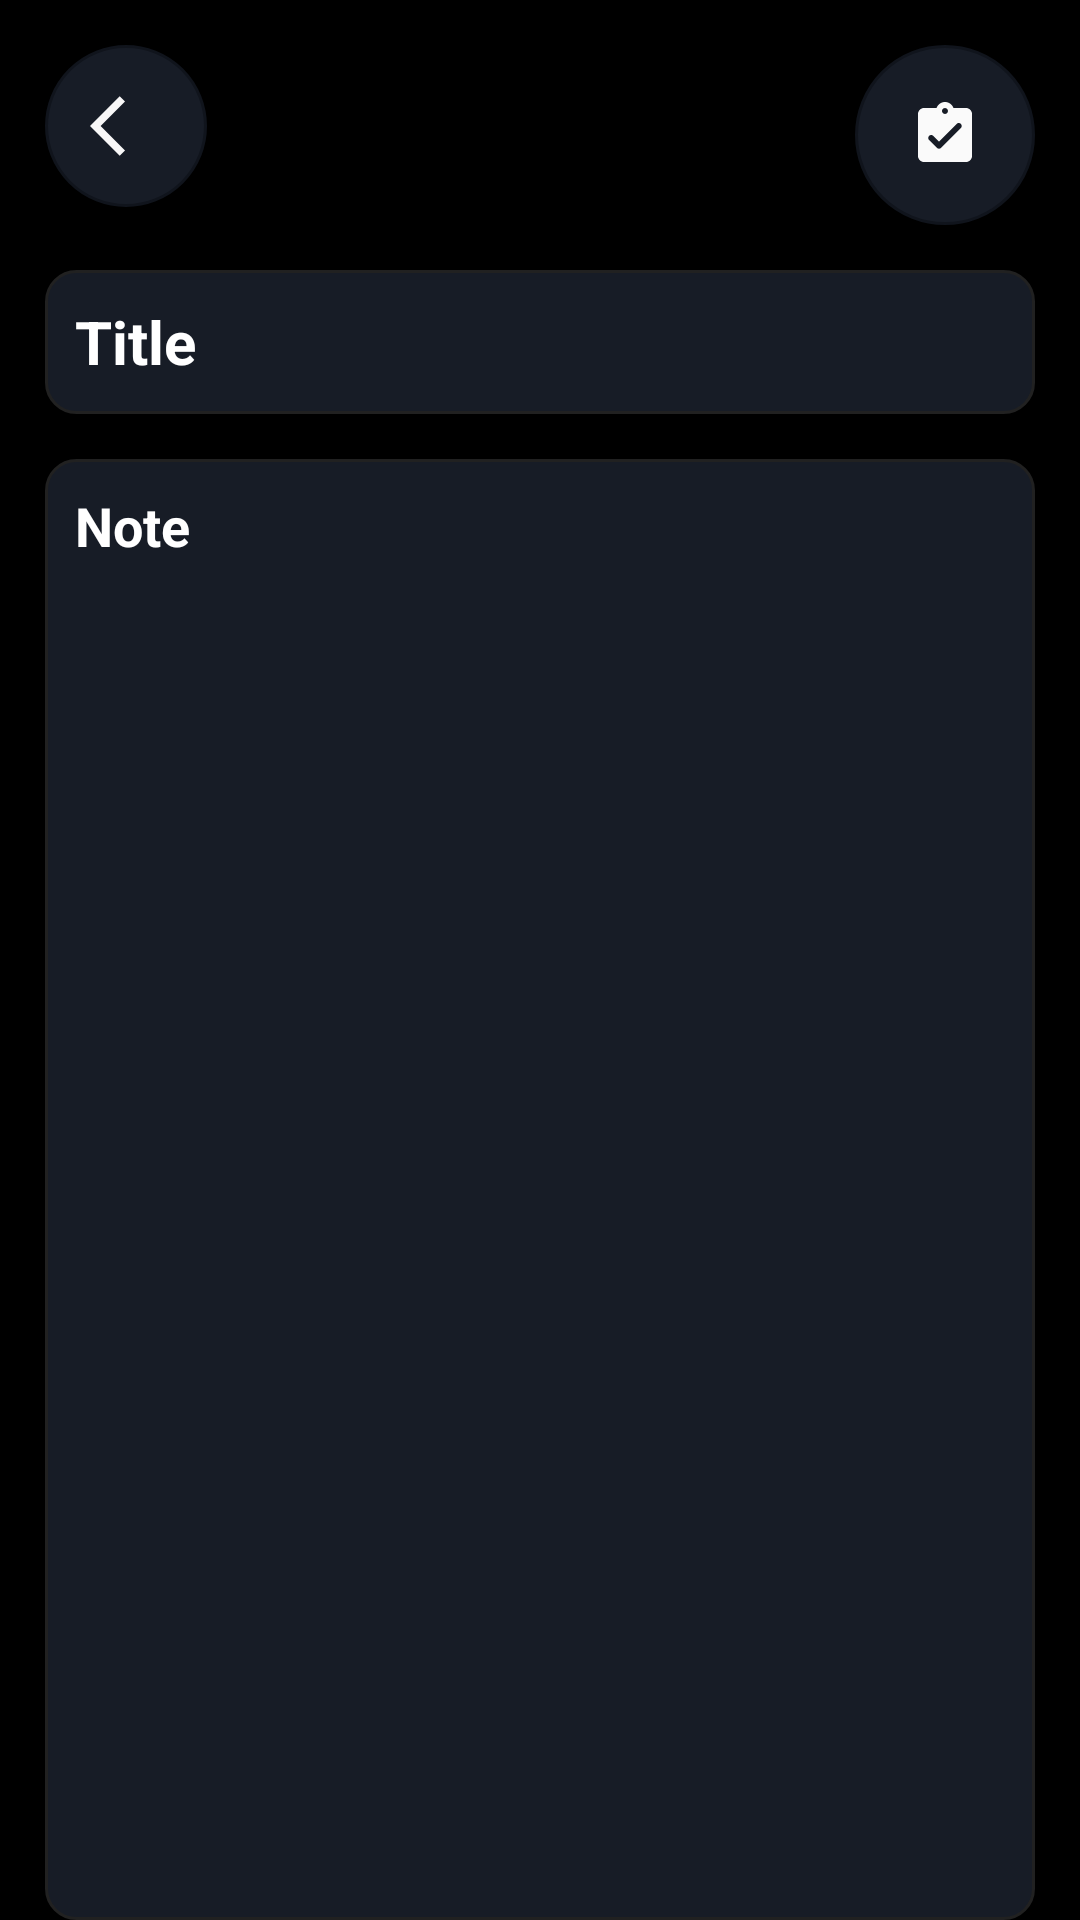

Where to tap for icons on this 1080*1920 app screen, as (x=x, y=y):
back: (x=126, y=126)
tick: (x=945, y=135)
